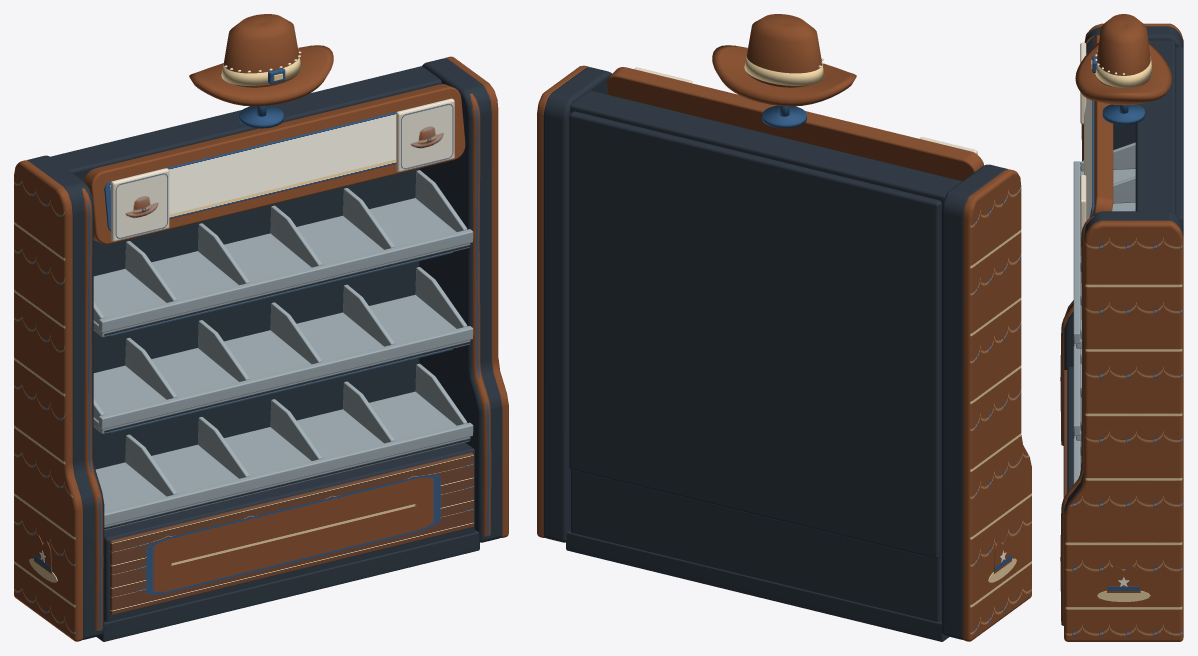
Rendered from TH_WILD_WEST.fbx.
3 views of the same model, side by side, from view 1: azimuth 30°, elevation 25°; view 2: azimuth 150°, elevation 25°; view 3: azimuth 270°, elevation 25° (orthographic). The views are drawn at different scales.
Visible parts, largest first — view 1: BaseFrontInset, Left_PaintedPanel, BackPanel.001, Right_StructuralWall, Tray_02, Tray_01, Tray_03, HeaderFace, HeaderBorder, TopCrossRail, Left_StructuralWall, ClosedSolidBase (+35 smaller); view 2: BackPanel.001, Left_PaintedPanel, ClosedSolidBase, Right_StructuralWall, HeaderBorder, Left_StructuralWall, TopCrossRail, LowerPlinth, Pinched hat crown, Upturned leather brim, Right_PaintedPanel, Chocolate hat band (+1 smaller); view 3: Right_PaintedPanel, TopCrossRail, Pinched hat crown, Upturned leather brim, HeaderBorder, Left_StructuralWall, BackPanel.001, FrontLip_01, HeaderFace, RightHousing, Right_StructuralWall, ClosedSolidBase (+15 smaller).
Part boxes in pixels (<box>): BaseFrontInset: <box>110,452,473,615</box>; Left_PaintedPanel: <box>14,160,83,641</box>; BackPanel.001: <box>93,169,419,469</box>; Right_StructuralWall: <box>419,58,502,542</box>; Tray_02: <box>93,295,470,433</box>; Tray_01: <box>93,198,470,337</box>; Tray_03: <box>95,391,470,530</box>; HeaderFace: <box>104,102,434,231</box>; HeaderBorder: <box>84,84,465,244</box>; TopCrossRail: <box>50,66,441,181</box>; Left_StructuralWall: <box>27,155,104,639</box>; ClosedSolidBase: <box>104,442,474,621</box>; BackPanel.001: <box>569,111,941,558</box>; Left_PaintedPanel: <box>962,169,1031,641</box>; ClosedSolidBase: <box>571,470,941,621</box>; Right_StructuralWall: <box>543,67,611,542</box>; HeaderBorder: <box>607,67,983,181</box>; Left_StructuralWall: <box>941,164,1007,639</box>; TopCrossRail: <box>570,90,961,208</box>; LowerPlinth: <box>566,530,949,641</box>; Pinched hat crown: <box>746,14,821,87</box>; Upturned leather brim: <box>712,45,856,106</box>; Right_PaintedPanel: <box>537,65,589,537</box>; Chocolate hat band: <box>744,56,824,85</box>; Right_PaintedPanel: <box>1064,220,1183,641</box>; TopCrossRail: <box>1135,40,1175,213</box>; Pinched hat crown: <box>1097,14,1150,87</box>; Upturned leather brim: <box>1075,43,1171,105</box>; HeaderBorder: <box>1093,35,1113,214</box>; Left_StructuralWall: <box>1064,26,1183,369</box>; BackPanel.001: <box>1175,47,1183,227</box>; FrontLip_01: <box>1073,161,1080,344</box>; HeaderFace: <box>1084,48,1094,220</box>; RightHousing: <box>1060,215,1094,625</box>; Right_StructuralWall: <box>1064,211,1183,514</box>; ClosedSolidBase: <box>1067,366,1073,492</box>.
Size of the model in its own units: 3.62 by 4.37 by 0.9273.
